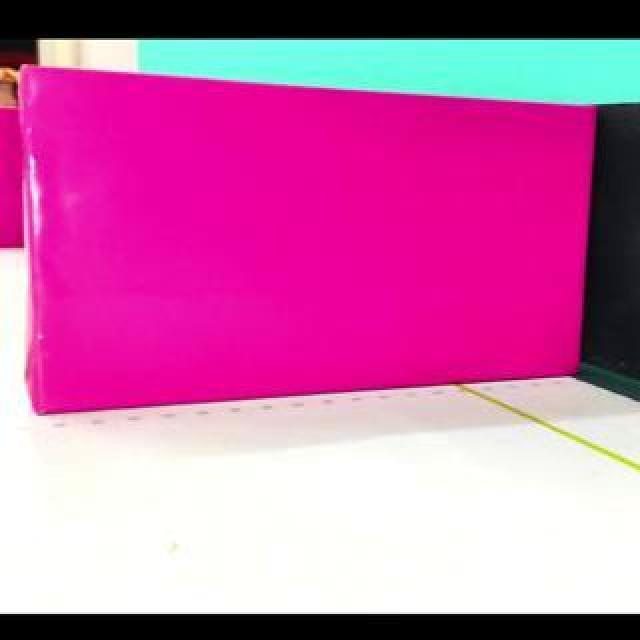xparking: (23, 67, 598, 412), (1, 110, 23, 250)
